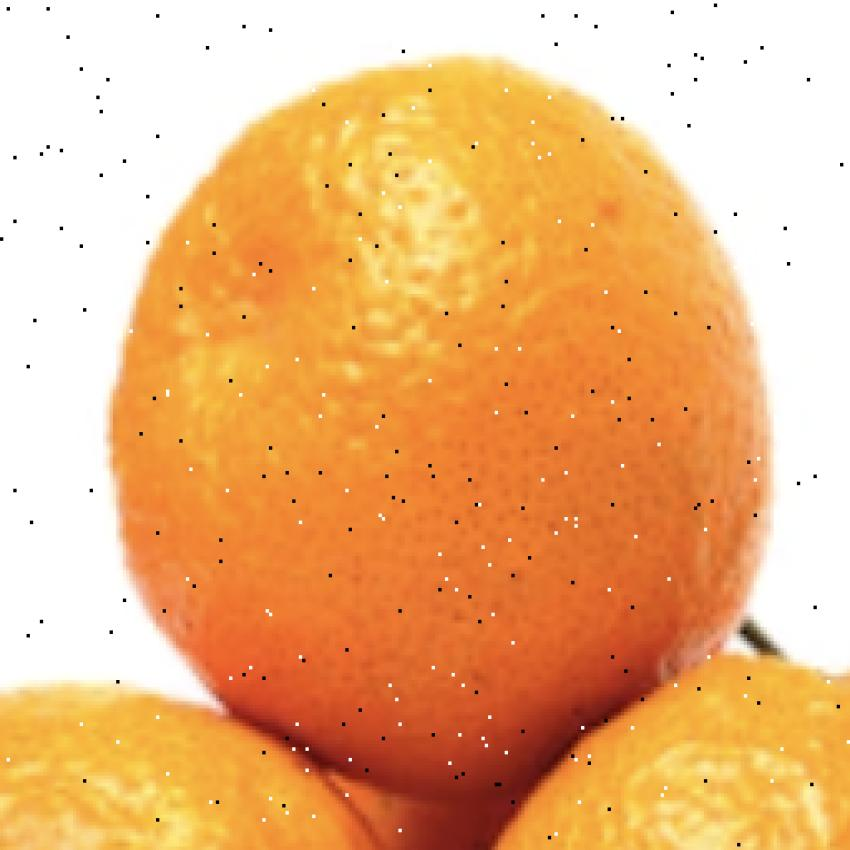Buen estado: (98, 44, 796, 818)
